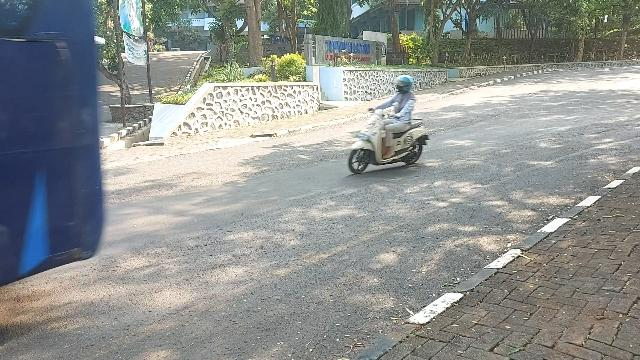helm: (395, 76, 413, 94)
motor: (350, 97, 431, 175)
